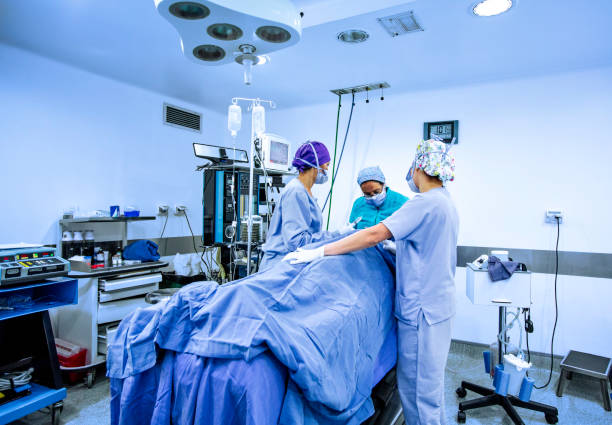chair: (555, 340, 612, 401)
electrosurgical_unit: (1, 235, 74, 284)
iv_pole: (229, 98, 281, 273)
operating_bed: (105, 229, 392, 425)
staff: (287, 135, 469, 421), (260, 133, 334, 248), (336, 165, 397, 225)
surgical_light: (148, 1, 305, 78)
